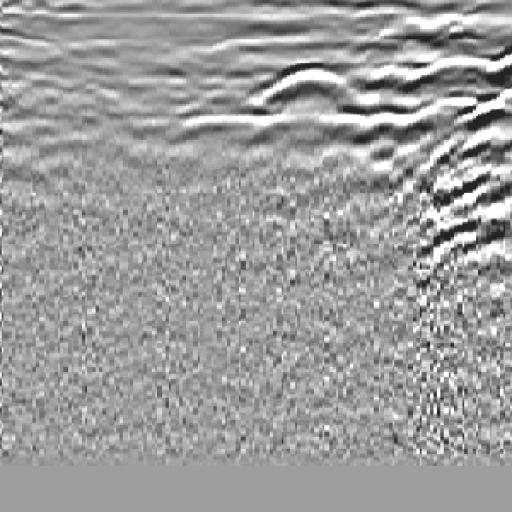metalic: (240, 51, 372, 112)
